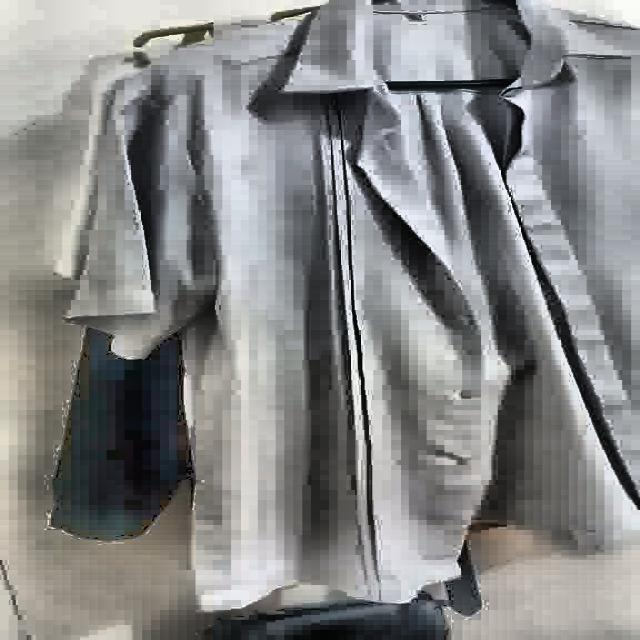clothes: (59, 0, 632, 624), (0, 12, 234, 629)
